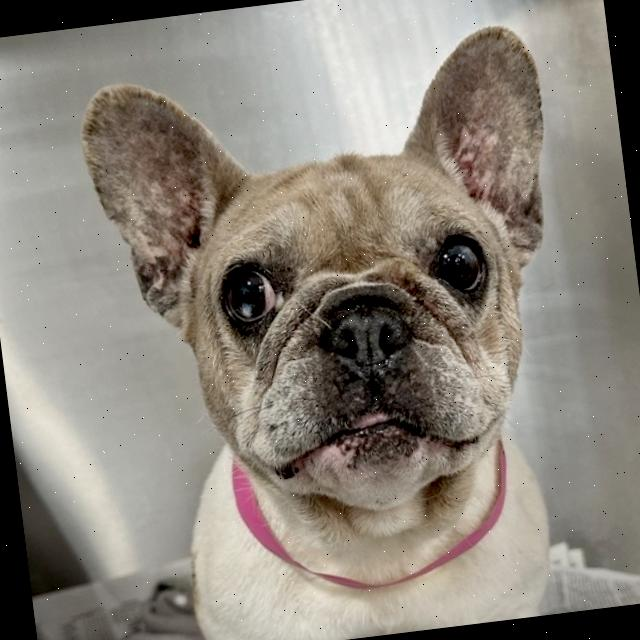french_bulldog_dog: (59, 0, 614, 565)
